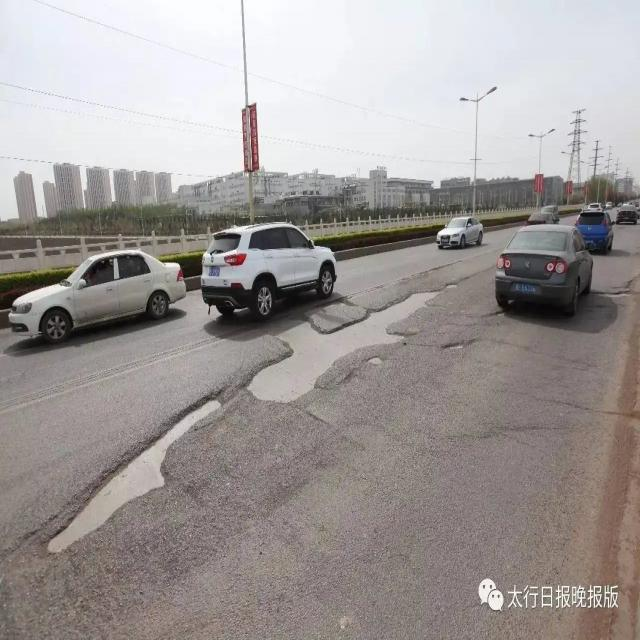Pothole: (46, 385, 229, 555), (242, 277, 460, 408), (440, 338, 478, 353)
